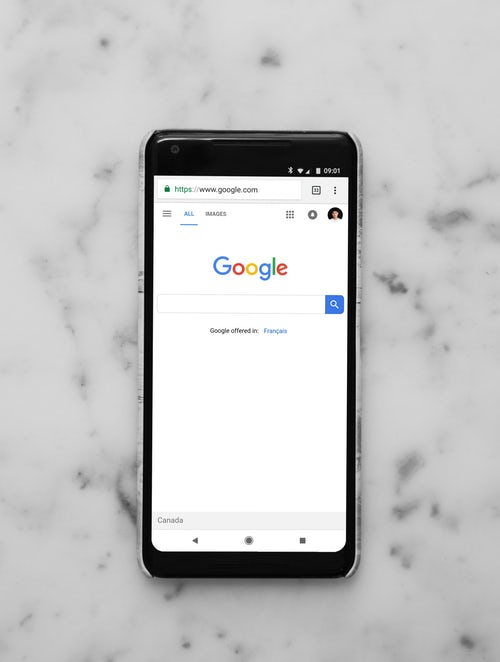phone: (132, 128, 362, 590)
